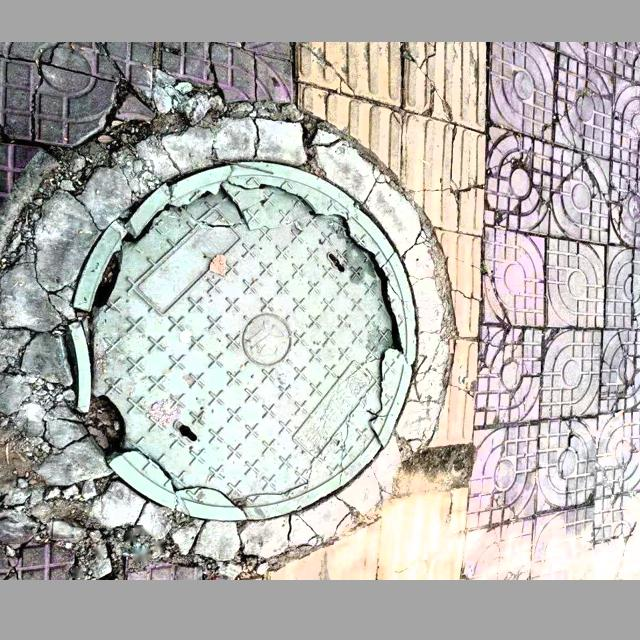circle: (0, 104, 466, 555)
